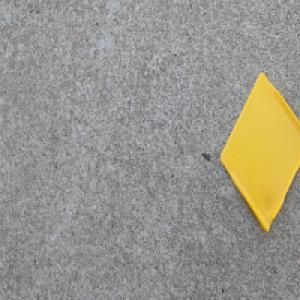PlasticPart: (219, 68, 300, 235)
